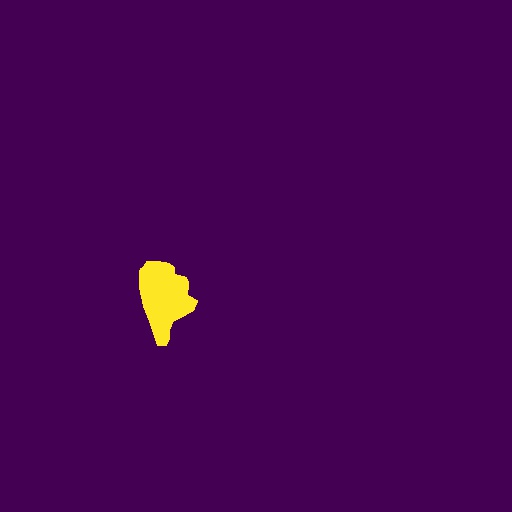Menigiomia_tumour: (139, 261, 198, 346)
